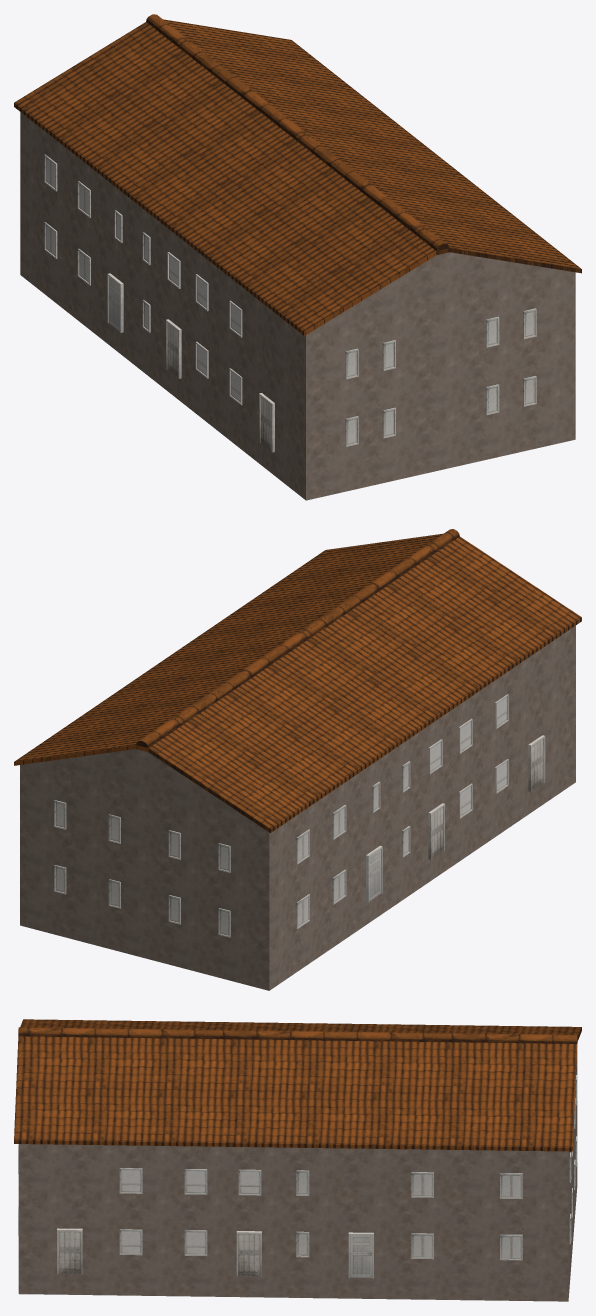
Rendered from Casa_27.fbx.
3 renders of one model, top to bottom at view 1: azimuth 30°, elevation 25°; view 2: azimuth 150°, elevation 25°; view 3: azimuth 270°, elevation 25°, orthographic. The views are drawn at different scales.
Visible parts, largest first — view 1: Casa_27; view 2: Casa_27; view 3: Casa_27.
Part boxes in pixels (x1=…): Casa_27: x1=14, y1=14, x2=581, y2=500; Casa_27: x1=14, y1=529, x2=581, y2=990; Casa_27: x1=14, y1=1019, x2=581, y2=1301.
Bounding box in the file's own units: 12.48 × 9.39 × 23.32.
